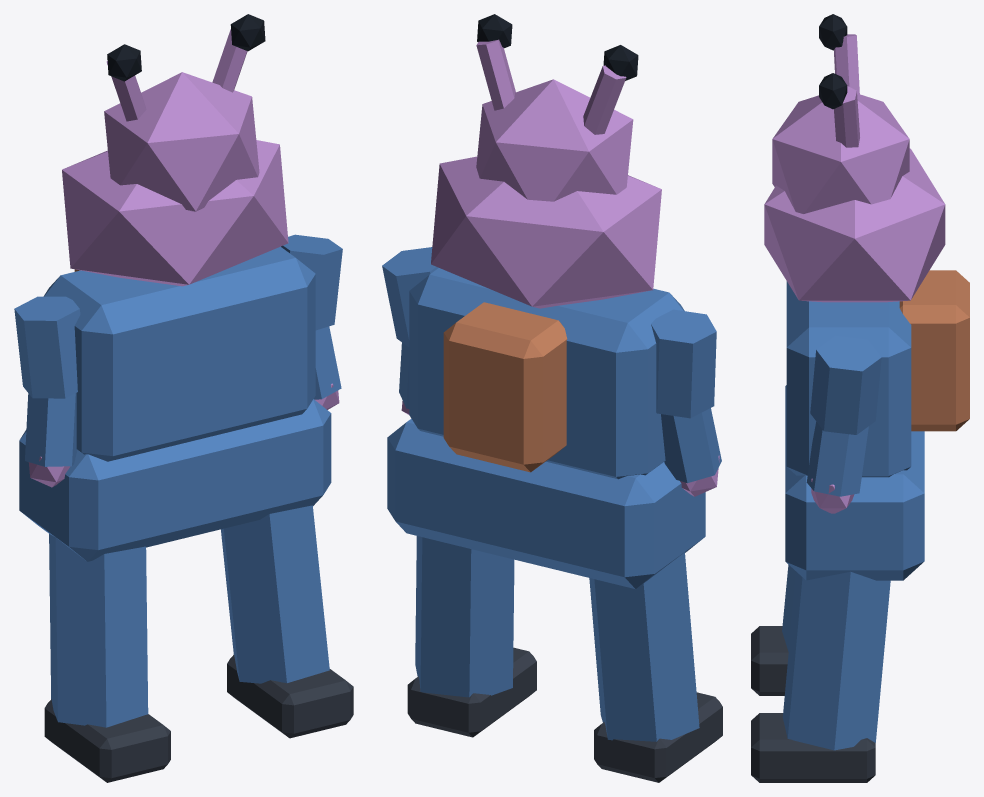
File: npcs_017_seed78877.glb
3 views of the same model, side by side, from view 1: azimuth 30°, elevation 25°; view 2: azimuth 150°, elevation 25°; view 3: azimuth 270°, elevation 25° (orthographic). The views are drawn at different scales.
Parts seen in each view (by area): view 1: npcs_017_seed78877; view 2: npcs_017_seed78877; view 3: npcs_017_seed78877.
Part boxes in pixels (box(x1,y1,x2,y2)): npcs_017_seed78877: box(14, 14, 353, 782); npcs_017_seed78877: box(382, 14, 722, 782); npcs_017_seed78877: box(751, 14, 969, 782).
Bounding box in the file's own units: 0.9033 × 1.9 × 0.5543.
